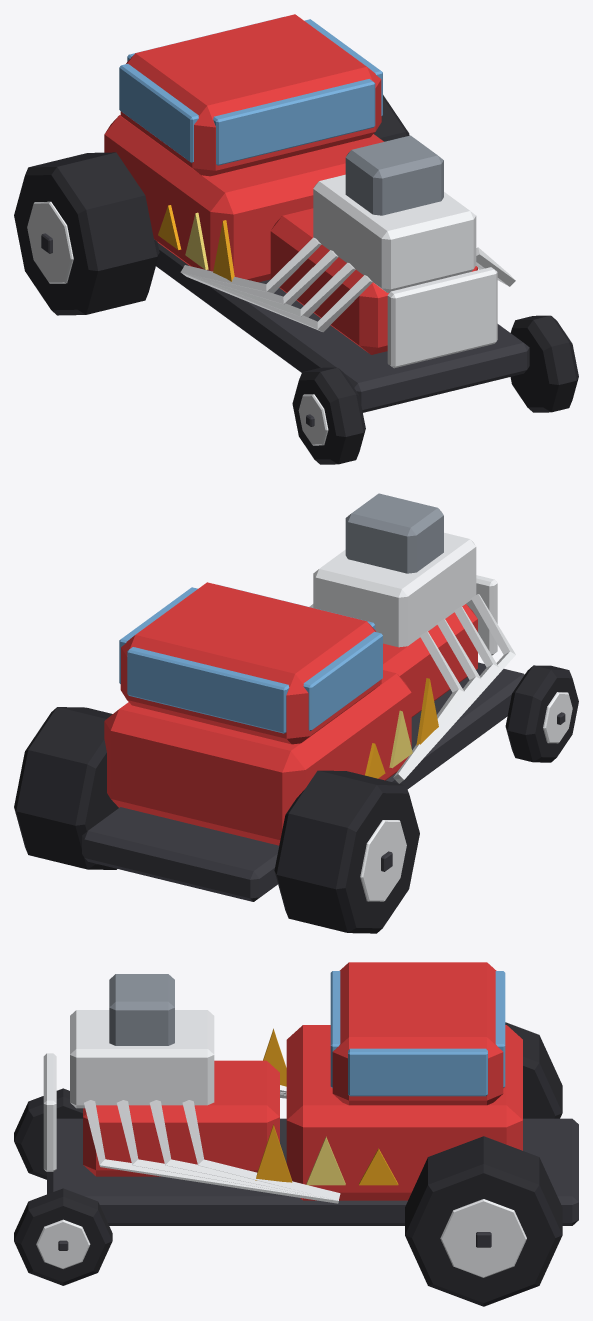
File: HotRod.fbx
3 renders of one model, top to bottom at view 1: azimuth 30°, elevation 25°; view 2: azimuth 150°, elevation 25°; view 3: azimuth 270°, elevation 25°, orthographic. The views are drawn at different scales.
Visible parts, largest first — view 1: HotRod, HotRod_WheelBR, HotRod_WheelFR, HotRod_WheelFL, HotRod_WheelBL; view 2: HotRod, HotRod_WheelBR, HotRod_WheelBL, HotRod_WheelFR; view 3: HotRod, HotRod_WheelBL, HotRod_WheelFL, HotRod_WheelBR, HotRod_WheelFR.
Boxes of the visible parts, left/top/right/bottom form: HotRod: left=104, top=14, right=529, bottom=412; HotRod_WheelBR: left=14, top=152, right=159, bottom=315; HotRod_WheelFR: left=292, top=367, right=365, bottom=464; HotRod_WheelFL: left=510, top=315, right=578, bottom=412; HotRod_WheelBL: left=374, top=95, right=409, bottom=141; HotRod: left=82, top=493, right=524, bottom=901; HotRod_WheelBR: left=274, top=770, right=419, bottom=933; HotRod_WheelBL: left=14, top=707, right=118, bottom=869; HotRod_WheelFR: left=505, top=665, right=578, bottom=762; HotRod: left=43, top=962, right=578, bottom=1225; HotRod_WheelBL: left=405, top=1136, right=562, bottom=1306; HotRod_WheelFL: left=14, top=1188, right=112, bottom=1285; HotRod_WheelBR: left=505, top=1022, right=562, bottom=1118; HotRod_WheelFR: left=14, top=1088, right=82, bottom=1179.
Bounding box in the file's own units: 5.82 × 4.1 × 8.6.
Materials: 1 (1 with a texture image).
